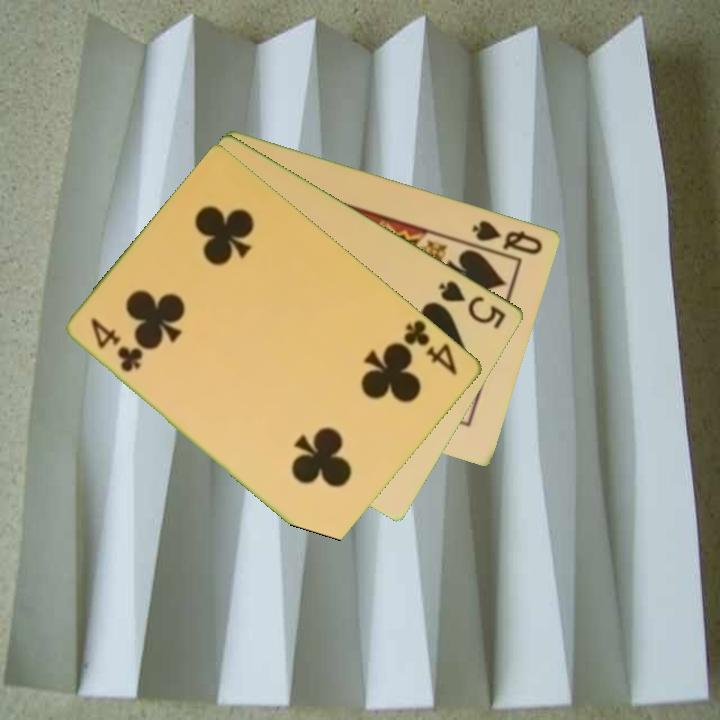4c: (400, 316, 461, 378), (87, 314, 146, 375)
5s: (435, 277, 510, 332)
Qs: (468, 216, 546, 257)
